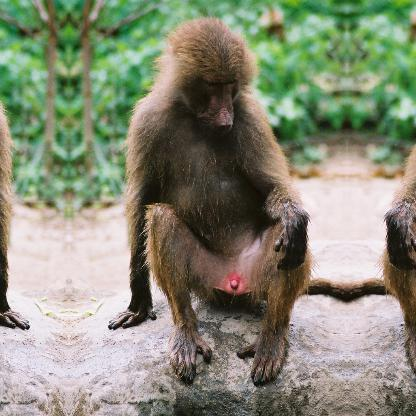Monkey: (106, 15, 346, 383), (347, 15, 415, 384)
